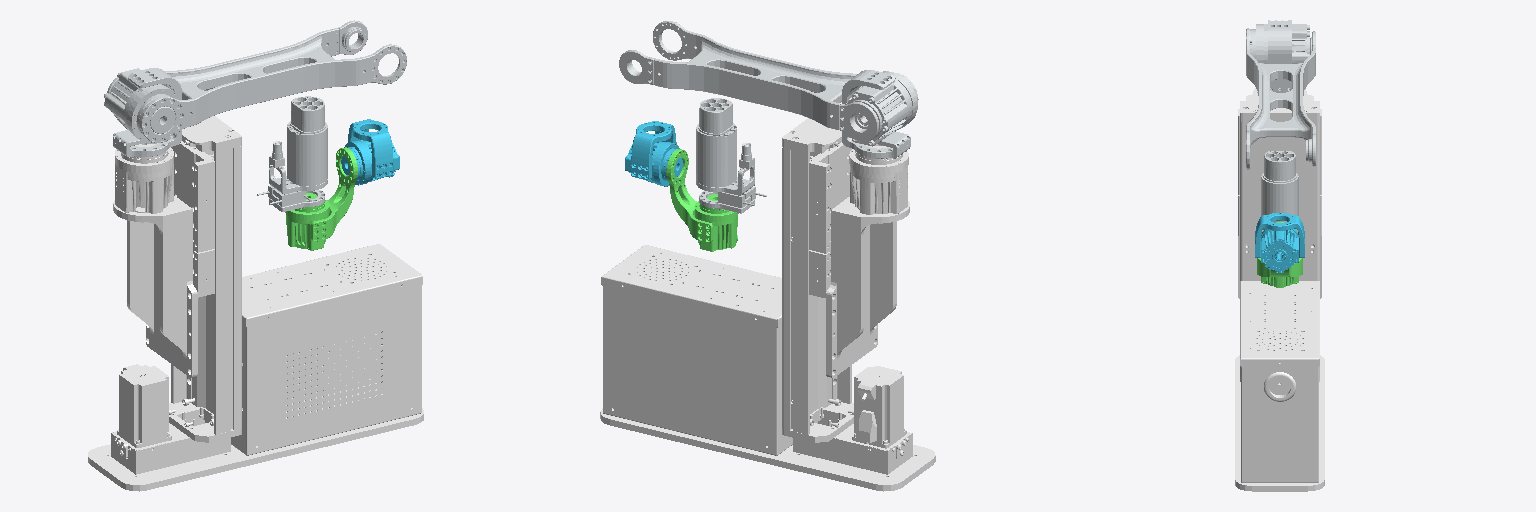
The robot description file, URDF, robot "ACR.SLDASM":
<?xml version="1.0" encoding="utf-8"?>
<!-- This URDF was automatically created by SolidWorks to URDF Exporter! Originally created by Stephen Brawner (brawner@gmail.com) 
     Commit Version: 1.6.0-1-g15f4949  Build Version: 1.6.7594.29634
     For more information, please see http://wiki.ros.org/sw_urdf_exporter -->
<robot
  name="ACR.SLDASM">
  <link
    name="base_link">
    <inertial>
      <origin
        xyz="0.124986089606894 0.000229733369466261 0.214864205020596"
        rpy="0 0 0" />
      <mass
        value="3.33140071696163" />
      <inertia
        ixx="0.0256001044665979"
        ixy="7.38546287149675E-06"
        ixz="2.63141818804686E-05"
        iyy="0.0366159503206184"
        iyz="-1.22986396589462E-06"
        izz="0.0214481365109499" />
    </inertial>
    <visual>
      <origin
        xyz="0 0 0"
        rpy="0 0 0" />
      <geometry>
        <mesh
          filename="package://ACR.SLDASM/meshes/base_link.STL" />
      </geometry>
      <material
        name="">
        <color
          rgba="1 1 1 1" />
      </material>
    </visual>
    <collision>
      <origin
        xyz="0 0 0"
        rpy="0 0 0" />
      <geometry>
        <mesh
          filename="package://ACR.SLDASM/meshes/base_link.STL" />
      </geometry>
    </collision>
  </link>
  <link
    name="link_1">
    <inertial>
      <origin
        xyz="0.0256002596623806 9.3636602832023E-06 0.348206966999271"
        rpy="0 0 0" />
      <mass
        value="0.712357589393977" />
      <inertia
        ixx="0.00443457165430712"
        ixy="9.32785969270467E-08"
        ixz="0.000358658503024282"
        iyy="0.00382118748926758"
        iyz="1.55245150457055E-07"
        izz="0.00121327273058299" />
    </inertial>
    <visual>
      <origin
        xyz="0 0 0"
        rpy="0 0 0" />
      <geometry>
        <mesh
          filename="package://ACR.SLDASM/meshes/link_1.STL" />
      </geometry>
      <material
        name="">
        <color
          rgba="1 1 1 1" />
      </material>
    </visual>
    <collision>
      <origin
        xyz="0 0 0"
        rpy="0 0 0" />
      <geometry>
        <mesh
          filename="package://ACR.SLDASM/meshes/link_1.STL" />
      </geometry>
    </collision>
  </link>
  <joint
    name="joint_1"
    type="prismatic">
    <origin
      xyz="0 0 0"
      rpy="0 0 0" />
    <parent
      link="base_link" />
    <child
      link="link_1" />
    <axis
      xyz="0 0 1" />
    <limit
      lower="0"
      upper="0.2"
      effort="0"
      velocity="0" />
  </joint>
  <link
    name="link_2">
    <inertial>
      <origin
        xyz="0.004389 -0.003162 -0.026864"
        rpy="0 0 0" />
      <mass
        value="1.845" />
      <inertia
        ixx="0.000689419822017408"
        ixy="3.36395180205499E-07"
        ixz="-9.2574319960314E-05"
        iyy="0.00089943577932933"
        iyz="-6.07612841469116E-07"
        izz="0.000436462783954031" />
    </inertial>
    <visual>
      <origin
        xyz="0 0 0"
        rpy="0 0 0" />
      <geometry>
        <mesh
          filename="package://ACR.SLDASM/meshes/link_2.STL" />
      </geometry>
      <material
        name="">
        <color
          rgba="0.898039215686275 0.917647058823529 0.929411764705882 1" />
      </material>
    </visual>
    <collision>
      <origin
        xyz="0 0 0"
        rpy="0 0 0" />
      <geometry>
        <mesh
          filename="package://ACR.SLDASM/meshes/link_2.STL" />
      </geometry>
    </collision>
  </link>
  <joint
    name="joint_2"
    type="revolute">
    <origin
      xyz="0 0 0.57801"
      rpy="0 0 0" />
    <parent
      link="link_1" />
    <child
      link="link_2" />
    <axis
      xyz="0 0 1" />
    <limit
      lower="-3"
      upper="3"
      effort="0"
      velocity="0" />
  </joint>
  <link
    name="link_3">
    <inertial>
      <origin
        xyz="0.179972 -0.000006 0.014147"
        rpy="0 0 0" />
      <mass
        value="1.368" />
      <inertia
        ixx="0.0013365988084767"
        ixy="-3.61608736923524E-08"
        ixz="-5.65075595189451E-05"
        iyy="0.0111601864009197"
        iyz="6.83641462642652E-11"
        izz="0.0100754382695275" />
    </inertial>
    <visual>
      <origin
        xyz="0 0 0"
        rpy="0 0 0" />
      <geometry>
        <mesh
          filename="package://ACR.SLDASM/meshes/link_3.STL" />
      </geometry>
      <material
        name="">
        <color
          rgba="0.898039215686275 0.917647058823529 0.929411764705882 1" />
      </material>
    </visual>
    <collision>
      <origin
        xyz="0 0 0"
        rpy="0 0 0" />
      <geometry>
        <mesh
          filename="package://ACR.SLDASM/meshes/link_3.STL" />
      </geometry>
    </collision>
  </link>
  <joint
    name="joint_3"
    type="revolute">
    <origin
      xyz="0 0 0"
      rpy="-1.5708 0 0" />
    <parent
      link="link_2" />
    <child
      link="link_3" />
    <axis
      xyz="0 0 -1" />
    <limit
      lower="-3"
      upper="3"
      effort="0"
      velocity="0" />
  </joint>
  <link
    name="link_4">
    <inertial>
      <origin
        xyz="-0.002841 0.025458 -0.004340"
        rpy="0 0 0" />
      <mass
        value="1.541" />
      <inertia
        ixx="0.000539242016873679"
        ixy="-7.99412478874306E-05"
        ixz="5.27234953353222E-07"
        iyy="0.000379063361508113"
        iyz="-1.38252360996569E-06"
        izz="0.000681692505979834" />
    </inertial>
    <visual>
      <origin
        xyz="0 0 0"
        rpy="0 0 0" />
      <geometry>
        <mesh
          filename="package://ACR.SLDASM/meshes/link_4.STL" />
      </geometry>
      <material
        name="">
        <color
          rgba="0.898039215686275 0.917647058823529 0.929411764705882 1" />
      </material>
    </visual>
    <collision>
      <origin
        xyz="0 0 0"
        rpy="0 0 0" />
      <geometry>
        <mesh
          filename="package://ACR.SLDASM/meshes/link_4.STL" />
      </geometry>
    </collision>
  </link>
  <joint
    name="joint_4"
    type="revolute">
    <origin
      xyz="0.38 0 0"
      rpy="0 0 3.14159" />
    <parent
      link="link_3" />
    <child
      link="link_4" />
    <axis
      xyz="0 0 1" />
    <limit
      lower="-3"
      upper="3"
      effort="0"
      velocity="0" />
  </joint>
  <link
    name="link_5">
    <inertial>
      <origin
        xyz="-0.001503 0.0021572 -0.014073"
        rpy="0 0 0" />
      <mass
        value="0.573" />
      <inertia
        ixx="9.65982368830838E-05"
        ixy="-7.12692023426226E-08"
        ixz="-7.77435135808436E-08"
        iyy="0.000201565821329605"
        iyz="7.5653801267832E-08"
        izz="0.000163693589935886" />
    </inertial>
    <visual>
      <origin
        xyz="0 0 0"
        rpy="0 0 0" />
      <geometry>
        <mesh
          filename="package://ACR.SLDASM/meshes/link_5.STL" />
      </geometry>
      <material
        name="">
        <color
          rgba="0.341176470588235 0.858823529411765 1 1" />
      </material>
    </visual>
    <collision>
      <origin
        xyz="0 0 0"
        rpy="0 0 0" />
      <geometry>
        <mesh
          filename="package://ACR.SLDASM/meshes/link_5.STL" />
      </geometry>
    </collision>
  </link>
  <joint
    name="joint_5"
    type="revolute">
    <origin
      xyz="0 -0.17375 0"
      rpy="1.5708 -1.5708 0" />
    <parent
      link="link_4" />
    <child
      link="link_5" />
    <axis
      xyz="0 0 1" />
    <limit
      lower="-3"
      upper="3"
      effort="0"
      velocity="0" />
  </joint>
  <link
    name="link_6">
    <inertial>
      <origin
        xyz="0.000066 0.055953 -0.02088"
        rpy="0 0 0" />
      <mass
        value="0.589" />
      <inertia
        ixx="0.000107002186795548"
        ixy="-9.22491395999787E-08"
        ixz="-7.7215701713127E-08"
        iyy="8.98347627970234E-05"
        iyz="-2.39424529276981E-05"
        izz="0.00010335446509972" />
    </inertial>
    <visual>
      <origin
        xyz="0 0 0"
        rpy="0 0 0" />
      <geometry>
        <mesh
          filename="package://ACR.SLDASM/meshes/link_6.STL" />
      </geometry>
      <material
        name="">
        <color
          rgba="0.501960784313725 1 0.501960784313725 1" />
      </material>
    </visual>
    <collision>
      <origin
        xyz="0 0 0"
        rpy="0 0 0" />
      <geometry>
        <mesh
          filename="package://ACR.SLDASM/meshes/link_6.STL" />
      </geometry>
    </collision>
  </link>
  <joint
    name="joint_6"
    type="revolute">
    <origin
      xyz="0 -0.106 0"
      rpy="1.5708 0 0" />
    <parent
      link="link_5" />
    <child
      link="link_6" />
    <axis
      xyz="0 0 1" />
    <limit
      lower="-3"
      upper="3"
      effort="0"
      velocity="0" />
  </joint>
  <link
    name="link_7">
    <inertial>
      <origin
        xyz="-0.00076 -0.018043 -0.11864"
        rpy="0 0 0" />
      <mass
        value="0.541" />
      <inertia
        ixx="0.000204533269940067"
        ixy="-4.8536016168685E-07"
        ixz="1.85431614205777E-07"
        iyy="0.00015870199453027"
        iyz="-7.91675009497548E-06"
        izz="0.000227694352968266" />
    </inertial>
    <visual>
      <origin
        xyz="0 0 0"
        rpy="0 0 0" />
      <geometry>
        <mesh
          filename="package://ACR.SLDASM/meshes/link_7.STL" />
      </geometry>
      <material
        name="">
        <color
          rgba="0.898039215686275 0.917647058823529 0.929411764705882 1" />
      </material>
    </visual>
    <collision>
      <origin
        xyz="0 0 0"
        rpy="0 0 0" />
      <geometry>
        <mesh
          filename="package://ACR.SLDASM/meshes/link_7.STL" />
      </geometry>
    </collision>
  </link>
  <joint
    name="joint_7"
    type="revolute">
    <origin
      xyz="0 -0.115 0"
      rpy="1.5708 0 0" />
    <parent
      link="link_6" />
    <child
      link="link_7" />
    <axis
      xyz="0 0 -1" />
    <limit
      lower="-3"
      upper="3"
      effort="0"
      velocity="0" />
  </joint>
  <link name="ee_link">

  </link>

  <joint name="link_7_to_ee" type="fixed">
    <parent link="link_7"/>
    <child  link="ee_link"/>

    <origin xyz="0 0 0" rpy="3.1415926 0 0"/>
  </joint>
</robot>

--- Render facts (derived) ---
3 views of the same robot in one strip: view 1: azimuth 30°, elevation 25°; view 2: azimuth 150°, elevation 25°; view 3: azimuth 270°, elevation 25° (orthographic).
Model ACR.SLDASM with 9 links and 8 joints (6 revolute, 1 prismatic, 1 fixed), rooted at base_link, posed all joints at 0.
Visible links, largest first — view 1: base_link, link_1, link_3, link_7, link_2, link_6, link_5; view 2: base_link, link_1, link_3, link_7, link_2, link_6, link_5; view 3: base_link, link_3, link_2, link_5, link_7, link_6.
Link boxes in pixels (x1,y1,x2,y2): base_link: (88, 116, 423, 491); link_1: (113, 143, 197, 377); link_3: (107, 20, 406, 142); link_7: (257, 96, 327, 211); link_2: (104, 68, 181, 156); link_6: (285, 147, 357, 250); link_5: (341, 119, 399, 185); base_link: (600, 118, 935, 491); link_1: (826, 144, 909, 377); link_3: (619, 21, 918, 141); link_7: (696, 98, 766, 213); link_2: (842, 70, 917, 158); link_6: (666, 149, 738, 251); link_5: (625, 121, 682, 186); base_link: (1235, 94, 1324, 491); link_3: (1246, 28, 1315, 169); link_2: (1250, 20, 1309, 92); link_5: (1255, 213, 1304, 272); link_7: (1255, 151, 1298, 229); link_6: (1257, 222, 1302, 287).
Bounding box of the posed robot: 0.506 × 0.146 × 0.627 m (x, y, z).
Meshes: 8 distinct files referenced, 7 mesh visuals loaded (7 binary STL); not drawn: 1 (reference not matched to a file when rendering).
